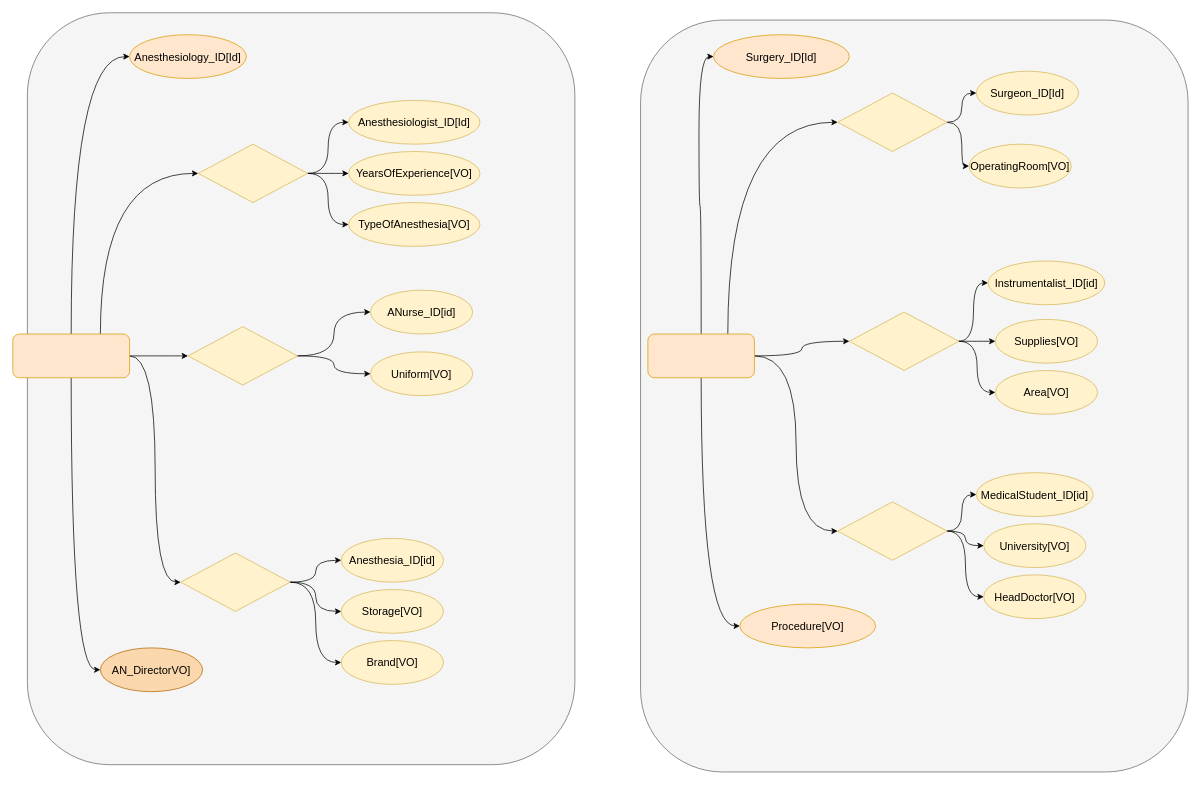
The diagram is 1201 pixels wide and 785 high, and some of its shapes have lost their labels. Each missing label, with the centre of its shape:
"Anesthesial[E]" belongs at (x=235, y=581).
"Anesthesiologist[E]" belongs at (x=252, y=173).
"Anesthesiology[AR]" belongs at (x=71, y=355).
"ANurse[E]" belongs at (x=242, y=355).
"Instrumentalist[E]" belongs at (x=904, y=340).
"MedicalStudent[E]" belongs at (x=892, y=530).
"Surgeon[E]" belongs at (x=892, y=121).
"Surgery[AR]" belongs at (x=700, y=355).
